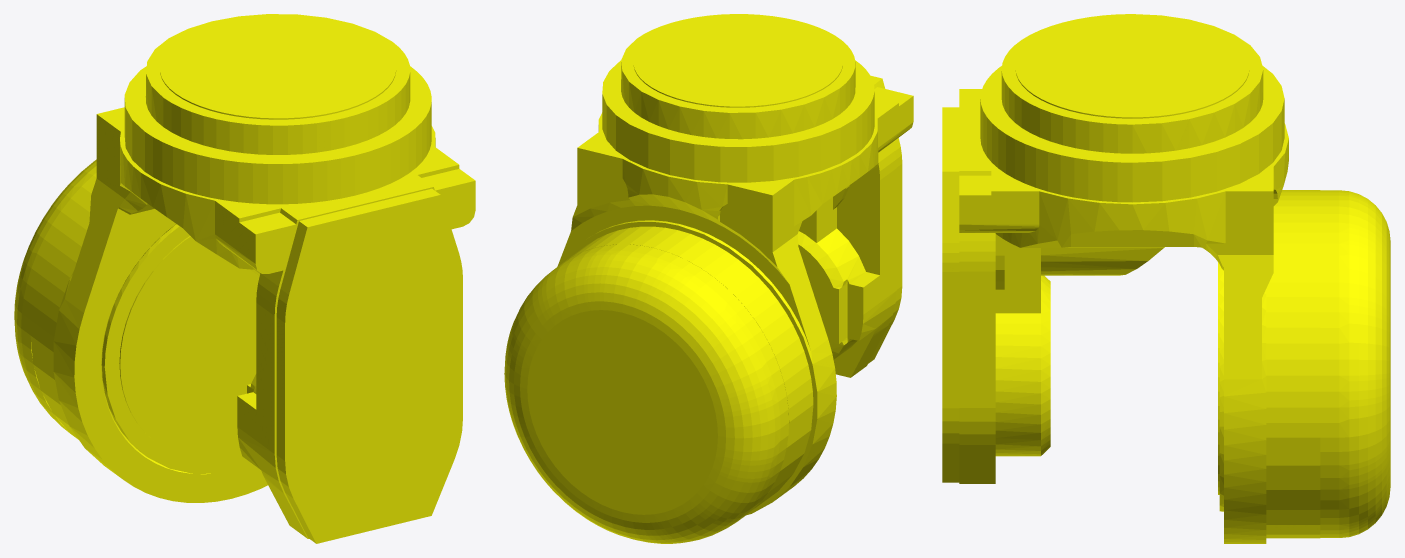
3 views of the same model, side by side, from view 1: azimuth 30°, elevation 25°; view 2: azimuth 150°, elevation 25°; view 3: azimuth 270°, elevation 25° (orthographic). The views are drawn at different scales.
Parts seen in each view (by area): view 1: node; view 2: node; view 3: node.
Part boxes in pixels (<box>): node: <box>14,14,475,543</box>; node: <box>504,14,913,543</box>; node: <box>942,14,1390,543</box>.
Bounding box in the file's own units: 246 × 346 × 306.
